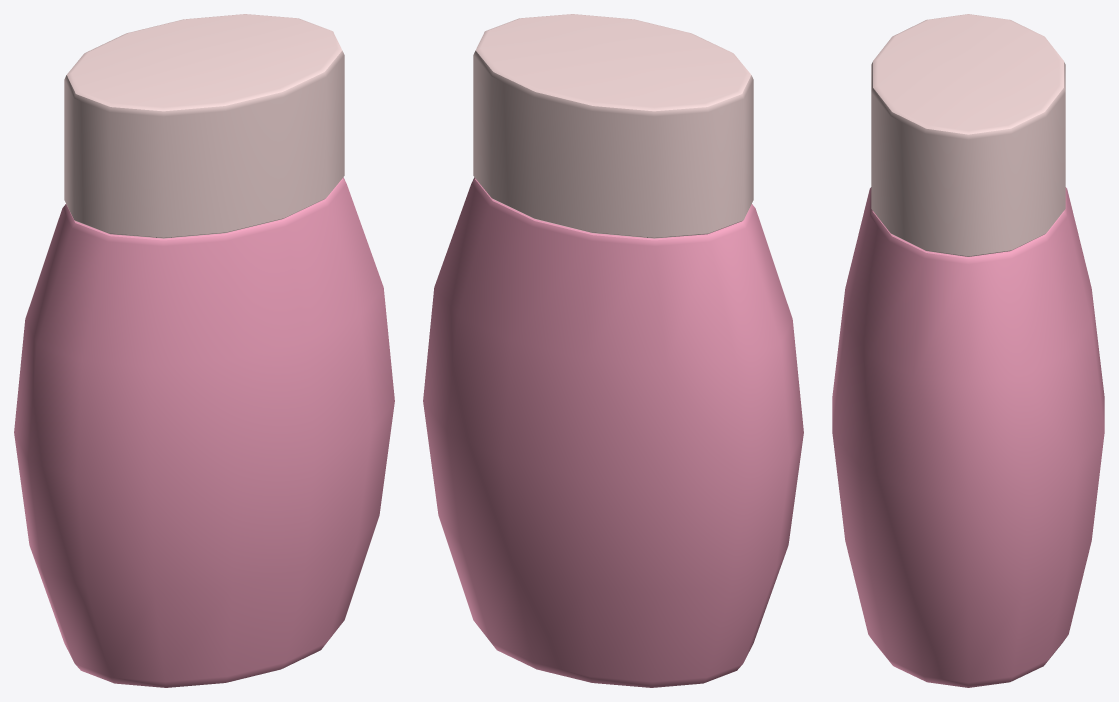
The model's file is Oil_Bottle_M.fbx.
3 views of the same model, side by side, from view 1: azimuth 30°, elevation 25°; view 2: azimuth 150°, elevation 25°; view 3: azimuth 270°, elevation 25° (orthographic). The views are drawn at different scales.
Parts seen in each view (by area): view 1: Cap_M, Bottle_M; view 2: Cap_M, Bottle_M; view 3: Cap_M, Bottle_M.
Boxes of the visible parts, x1,y1,x2,y2 form: Cap_M: (14, 177, 394, 687); Bottle_M: (64, 14, 344, 238); Cap_M: (423, 177, 803, 687); Bottle_M: (473, 14, 753, 238); Cap_M: (832, 187, 1104, 687); Bottle_M: (871, 14, 1065, 256).
Bounding box in the file's own units: 21.64 × 34.17 × 15.03.
Materials: 1 (1 with a texture image).
